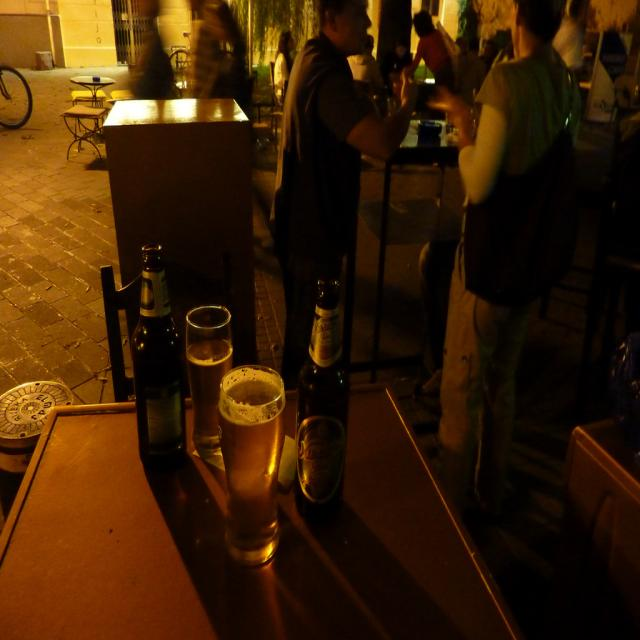Bicycle: (0, 41, 42, 159)
Bottle: (296, 263, 376, 611), (106, 238, 164, 471)
People: (491, 0, 587, 370), (295, 0, 382, 285), (372, 0, 477, 84)
Table: (0, 347, 484, 640)
chair: (63, 91, 101, 153)
